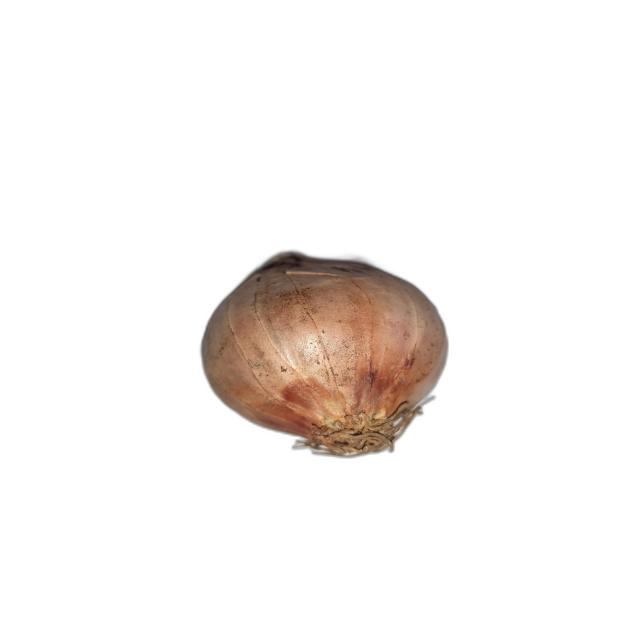onion: (200, 250, 450, 459)
